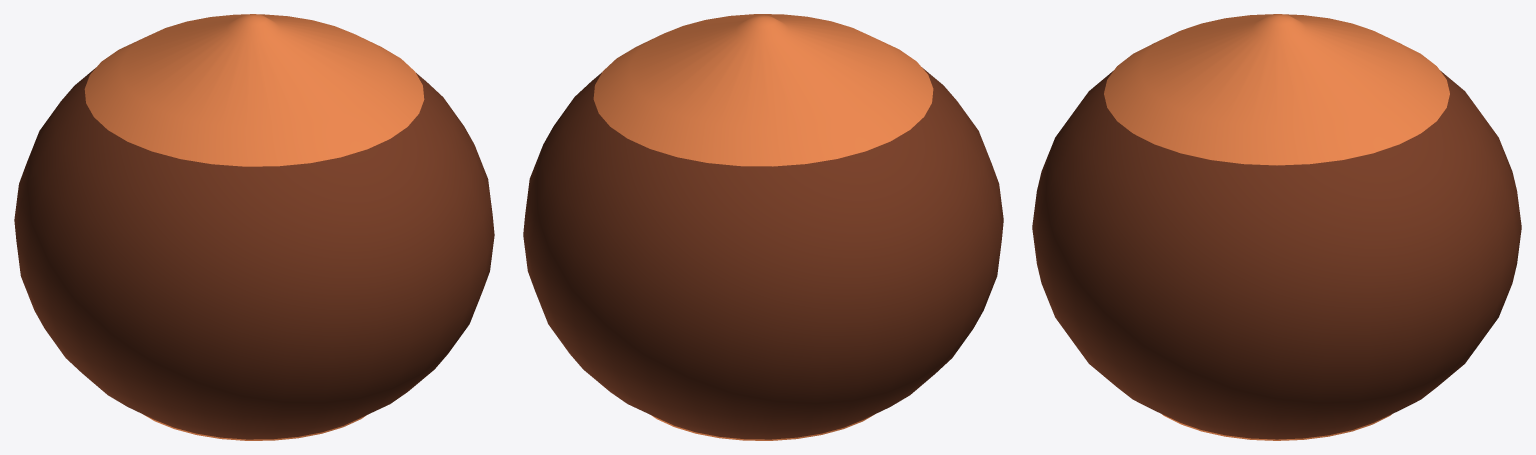
File: hezelnut.fbx
3 views of the same model, side by side, from view 1: azimuth 30°, elevation 25°; view 2: azimuth 150°, elevation 25°; view 3: azimuth 270°, elevation 25° (orthographic).
Visible parts, largest first — view 1: Sphere; view 2: Sphere; view 3: Sphere.
Part boxes in pixels (left/top/right/bottom): Sphere: left=14, top=14, right=494, bottom=440; Sphere: left=523, top=14, right=1003, bottom=440; Sphere: left=1032, top=14, right=1521, bottom=440.
Bounding box in the file's own units: 196 × 180 × 200.
